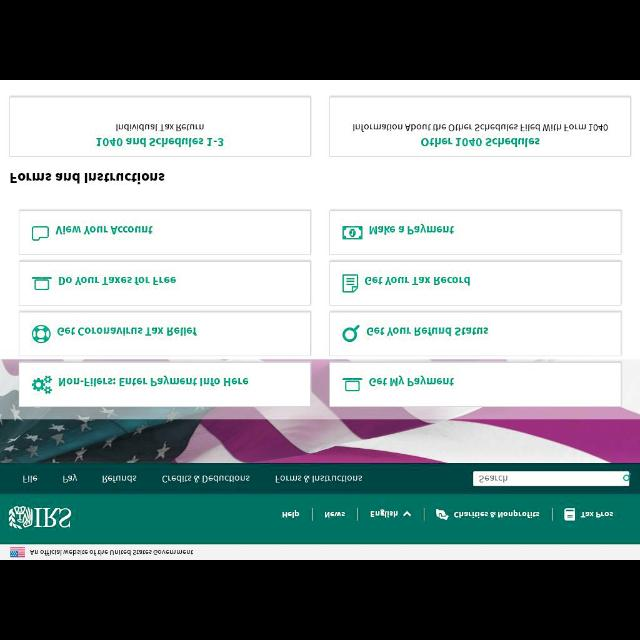backgroundimage: (1, 360, 639, 462)
icon: (32, 324, 52, 344), (33, 376, 53, 394), (30, 226, 50, 242), (342, 226, 364, 240), (342, 324, 360, 341), (342, 378, 363, 392), (343, 274, 359, 292), (32, 276, 52, 290), (435, 508, 449, 520), (564, 508, 576, 520), (624, 472, 630, 482), (403, 512, 411, 516)
image: (8, 508, 72, 528), (10, 546, 26, 558)
input: (472, 471, 630, 487)
spinner: (370, 510, 412, 518)
text: (352, 124, 610, 132), (59, 376, 249, 386), (11, 172, 165, 184), (57, 326, 197, 336), (30, 548, 194, 556), (97, 137, 225, 147), (366, 326, 488, 336), (57, 276, 176, 286), (422, 136, 540, 146), (364, 276, 472, 286), (370, 375, 454, 387), (56, 225, 152, 235), (274, 474, 364, 484), (162, 474, 250, 484), (370, 224, 456, 234), (454, 509, 540, 518), (116, 124, 204, 132), (102, 474, 138, 484), (580, 510, 614, 518), (479, 475, 508, 483), (371, 510, 399, 518), (322, 510, 346, 518), (62, 474, 78, 484), (22, 474, 38, 484), (282, 510, 300, 518)
textbutton: (330, 96, 632, 158), (9, 96, 311, 158), (330, 261, 622, 307), (330, 209, 622, 255), (330, 363, 622, 407), (19, 261, 311, 305), (19, 363, 310, 407), (19, 312, 310, 356), (330, 312, 620, 356), (19, 210, 311, 253)
toolbar: (1, 463, 640, 493)
